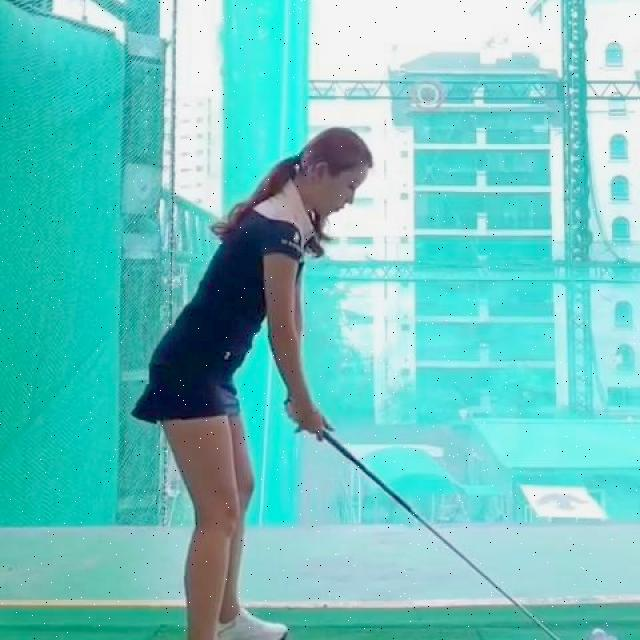ClubHandle: (283, 397, 557, 640)
GolfBall: (587, 625, 608, 640)
